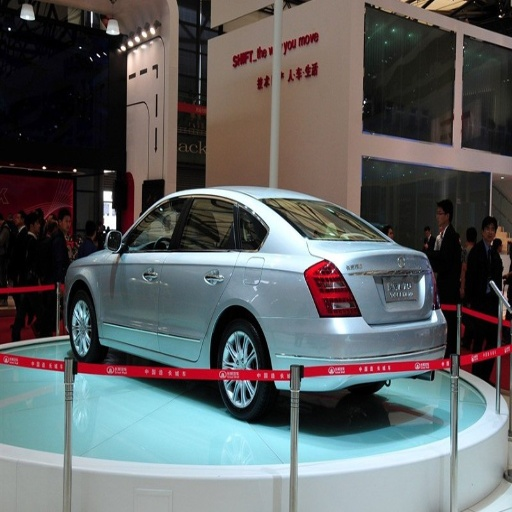back_bumper: (266, 315, 448, 394), (450, 379, 505, 474)
back_glass: (264, 198, 383, 239)
back_left_door: (160, 194, 238, 359)
tailgate: (321, 241, 435, 328)
trunk: (342, 392, 452, 509), (171, 468, 276, 509), (3, 447, 56, 495)
